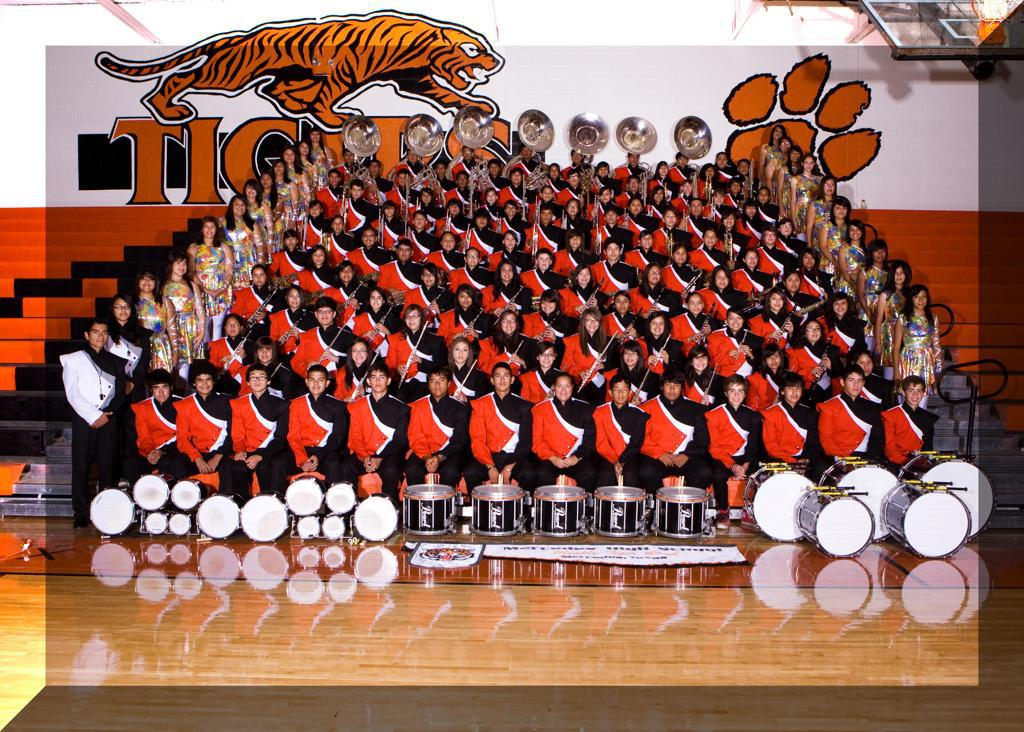face: (91, 323, 109, 350), (846, 372, 865, 396), (429, 374, 448, 397), (728, 382, 746, 405), (556, 377, 573, 401), (308, 371, 325, 395), (663, 380, 682, 401), (785, 381, 803, 403), (495, 367, 511, 391), (249, 371, 268, 391), (856, 355, 873, 377), (153, 383, 171, 403), (906, 385, 923, 406), (115, 300, 131, 321), (371, 370, 387, 391), (613, 383, 629, 403), (453, 342, 469, 362), (689, 294, 704, 315), (693, 353, 709, 372), (728, 312, 744, 331), (197, 375, 213, 394), (806, 323, 821, 342), (406, 310, 421, 329), (540, 347, 554, 367), (503, 314, 516, 335), (585, 315, 600, 333), (767, 351, 782, 369), (624, 348, 639, 366), (318, 306, 333, 324), (651, 317, 665, 336), (913, 291, 927, 310), (353, 344, 367, 363), (140, 276, 155, 293), (173, 257, 187, 275), (253, 268, 267, 286), (770, 294, 784, 312), (227, 318, 240, 337), (616, 296, 630, 313), (786, 274, 800, 291), (542, 297, 556, 314), (443, 234, 456, 252), (289, 290, 301, 309), (716, 271, 728, 290), (258, 347, 273, 362), (203, 221, 217, 237), (834, 300, 848, 316), (834, 203, 848, 219), (459, 291, 473, 307), (607, 243, 620, 260), (648, 266, 660, 284), (340, 266, 354, 281), (873, 247, 887, 262), (363, 231, 376, 247), (894, 267, 906, 284), (539, 253, 551, 270), (371, 291, 382, 309), (399, 245, 412, 260), (313, 250, 326, 265), (803, 253, 816, 268), (849, 226, 862, 241), (234, 199, 246, 215), (675, 248, 687, 264), (747, 252, 759, 268), (578, 269, 590, 285), (467, 251, 479, 267), (502, 265, 514, 281), (424, 269, 436, 285), (825, 179, 836, 195), (285, 235, 297, 249), (765, 231, 777, 245), (781, 222, 792, 237), (706, 231, 716, 247), (631, 200, 642, 214), (691, 201, 702, 215), (334, 218, 344, 233), (666, 211, 676, 226), (247, 184, 258, 197), (506, 203, 517, 216), (570, 235, 581, 248), (642, 236, 653, 249), (352, 184, 362, 198), (542, 209, 552, 223), (506, 234, 516, 248), (568, 201, 578, 215), (724, 215, 735, 227), (790, 150, 801, 162), (261, 174, 271, 187), (415, 215, 425, 228), (781, 139, 791, 152), (487, 191, 497, 204), (543, 188, 553, 201), (607, 211, 617, 224), (718, 155, 728, 168), (805, 157, 814, 171), (759, 190, 768, 204), (310, 204, 320, 216), (600, 190, 610, 202), (714, 193, 724, 205), (285, 151, 294, 164), (774, 127, 783, 140), (740, 162, 749, 175), (300, 144, 310, 155), (274, 164, 284, 175), (450, 204, 460, 215), (477, 216, 487, 227), (570, 174, 581, 184), (746, 205, 756, 216), (371, 162, 380, 174), (409, 151, 418, 163), (385, 206, 394, 218), (464, 148, 473, 160), (629, 179, 638, 191), (655, 190, 664, 202), (330, 172, 338, 185), (437, 165, 445, 178), (732, 182, 741, 193), (513, 173, 522, 184), (706, 168, 715, 179), (458, 175, 466, 187), (423, 193, 432, 203), (572, 152, 581, 162), (600, 167, 609, 177), (630, 155, 639, 165), (491, 164, 499, 175), (523, 147, 531, 158), (684, 183, 692, 194), (551, 168, 559, 178), (660, 166, 668, 176), (679, 156, 687, 166), (399, 174, 406, 185), (312, 132, 320, 141), (346, 152, 353, 162)
